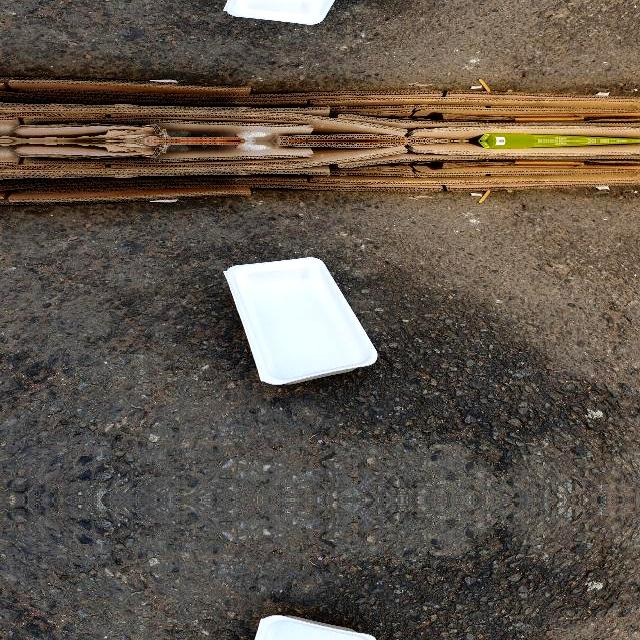Styrofoam: (222, 255, 378, 385), (224, 256, 377, 384), (222, 613, 377, 640)
